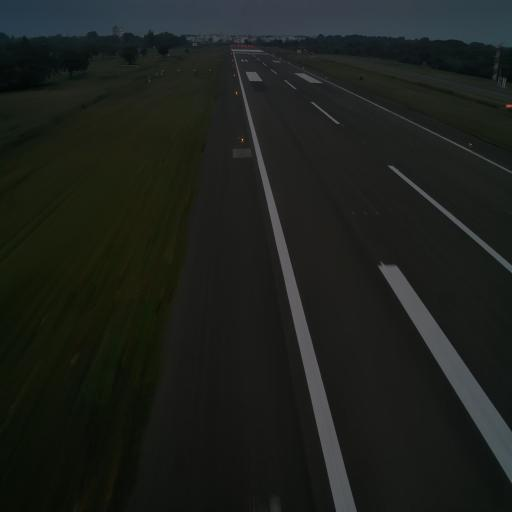off: (362, 209, 368, 218), (374, 209, 380, 218), (316, 139, 320, 146), (352, 209, 355, 217), (364, 140, 367, 146), (341, 122, 344, 128), (302, 138, 305, 144), (416, 142, 419, 147), (310, 138, 312, 144), (410, 140, 412, 146), (403, 141, 405, 146)
on: (468, 140, 472, 148), (240, 137, 244, 143)
